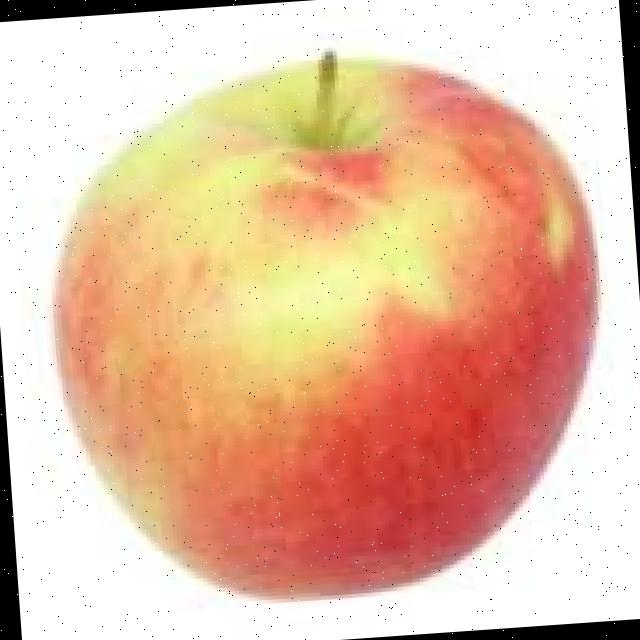Apel: (35, 26, 624, 617)
